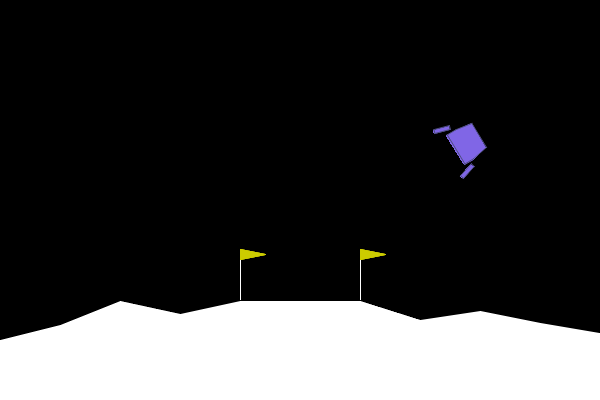lander: (431, 109, 496, 181)
